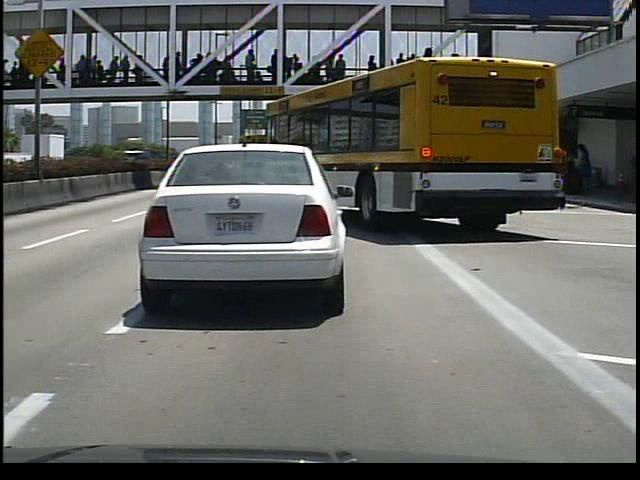person: (570, 139, 599, 199)
